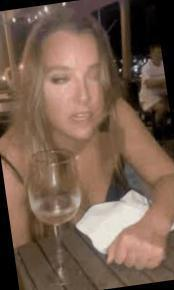Drunk: (43, 37, 109, 137)
